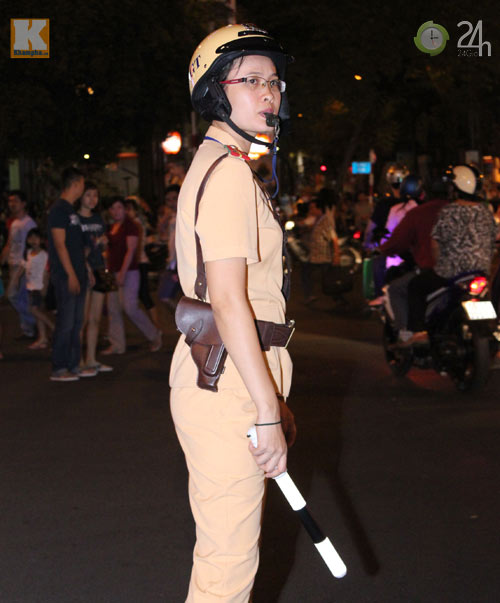police: (136, 21, 354, 597)
